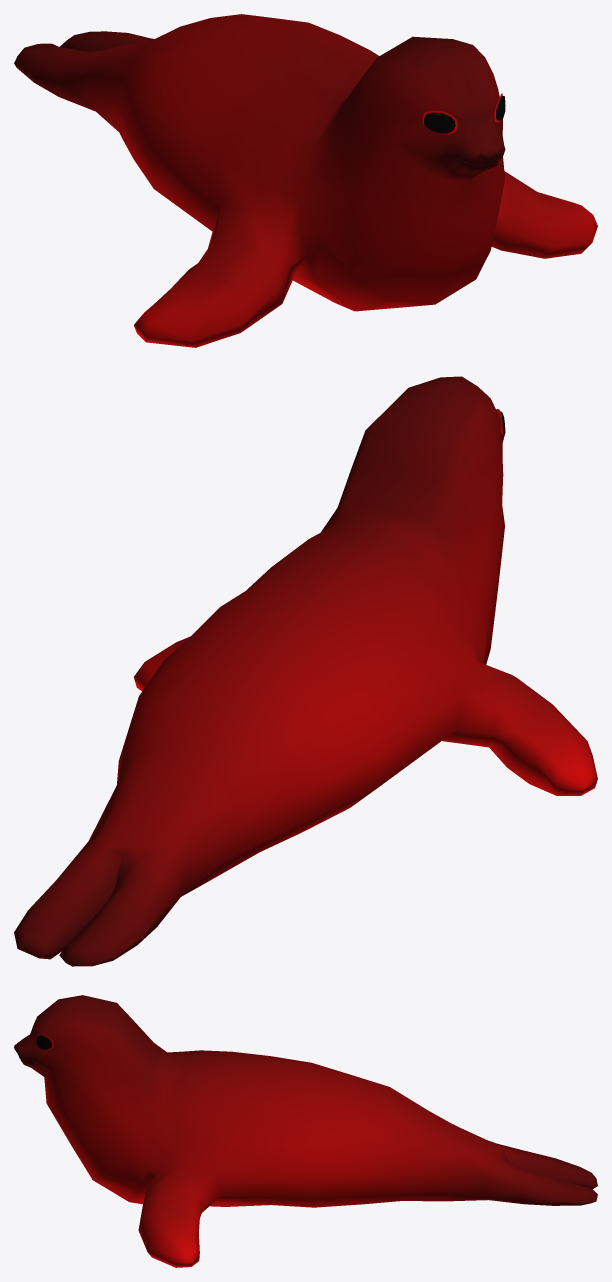
Rendered from Animals_HarbourSeal.fbx.
3 renders of one model, top to bottom at view 1: azimuth 30°, elevation 25°; view 2: azimuth 150°, elevation 25°; view 3: azimuth 270°, elevation 25°, orthographic. The views are drawn at different scales.
Parts seen in each view (by area): view 1: base; view 2: base; view 3: base.
Boxes of the visible parts, box(x1,y1,x2,y2) form: base: box(14, 14, 597, 347); base: box(14, 376, 597, 966); base: box(14, 995, 597, 1267).
Bounding box in the file's own units: 114 × 71.34 × 192.
